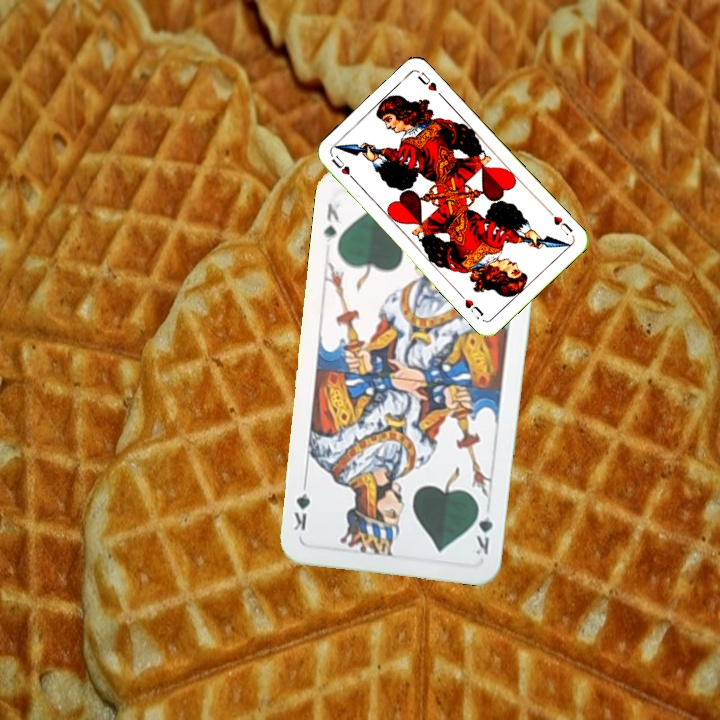GK: (472, 500, 495, 557), (320, 199, 343, 245)
HU: (327, 151, 359, 184), (545, 206, 575, 238)
